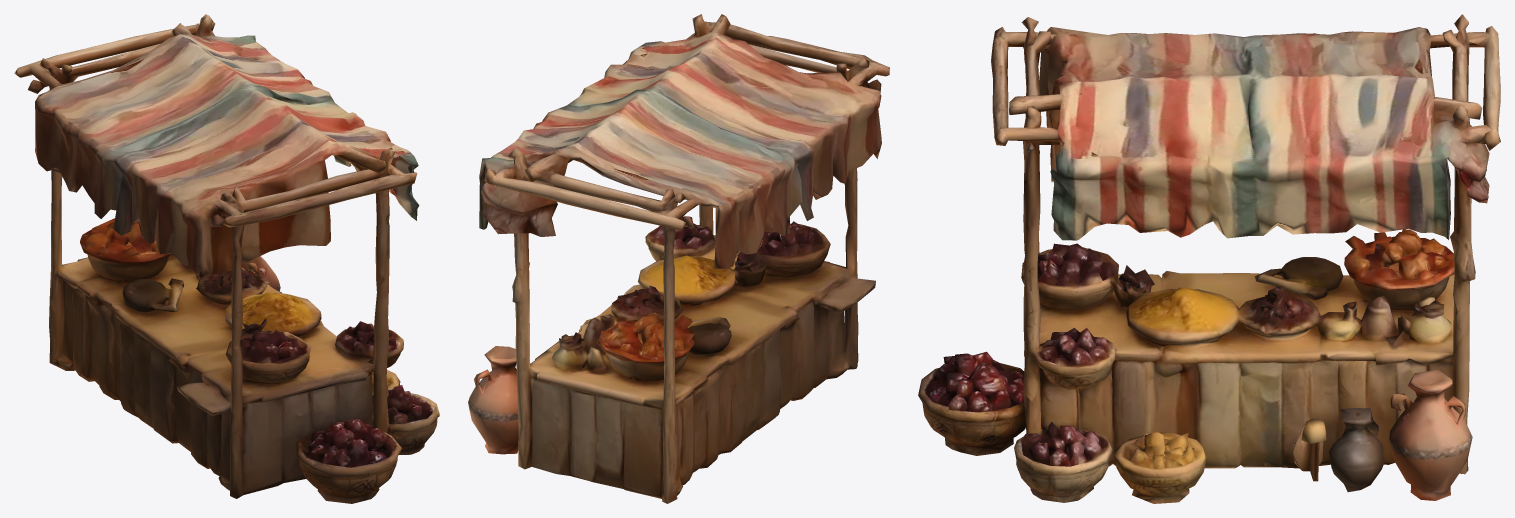
File: stall.glb
3 views of the same model, side by side, from view 1: azimuth 30°, elevation 25°; view 2: azimuth 150°, elevation 25°; view 3: azimuth 270°, elevation 25° (orthographic). The views are drawn at different scales.
Visible parts, largest first — view 1: tripo_node_cab84f26-29d0-440f-8551-d724b182d42d; view 2: tripo_node_cab84f26-29d0-440f-8551-d724b182d42d; view 3: tripo_node_cab84f26-29d0-440f-8551-d724b182d42d.
Boxes of the visible parts, x1=… form: tripo_node_cab84f26-29d0-440f-8551-d724b182d42d: x1=14, y1=14, x2=439, y2=503; tripo_node_cab84f26-29d0-440f-8551-d724b182d42d: x1=468, y1=14, x2=889, y2=503; tripo_node_cab84f26-29d0-440f-8551-d724b182d42d: x1=918, y1=14, x2=1500, y2=503.
Size of the model in its own units: 0.5908 by 0.7143 by 1.
1 material, 1 textured.
